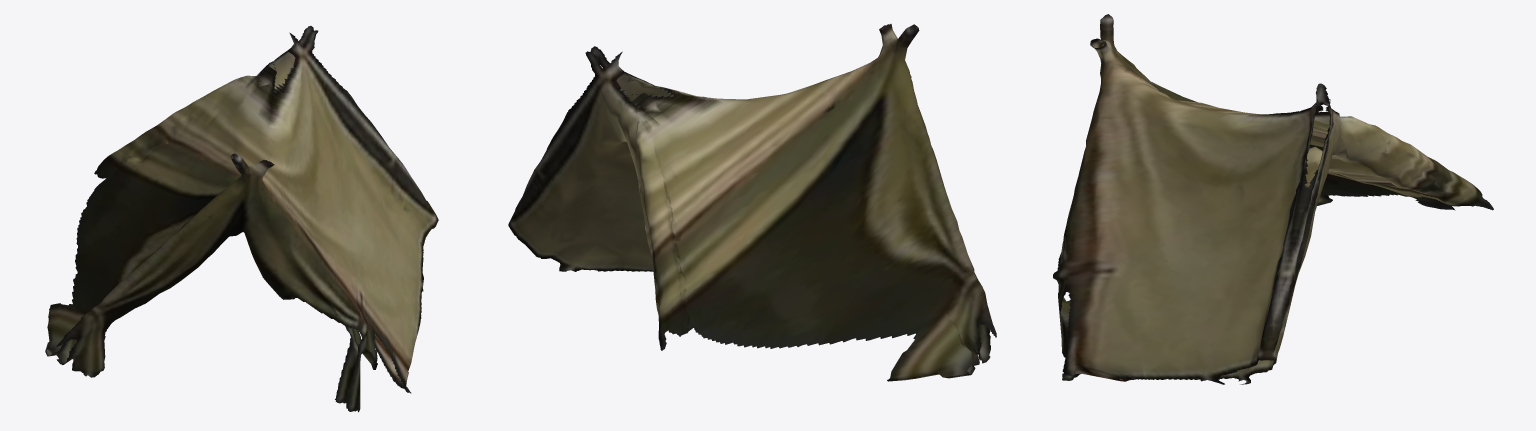
Rendered from fantasytent.glb.
3 views of the same model, side by side, from view 1: azimuth 30°, elevation 25°; view 2: azimuth 150°, elevation 25°; view 3: azimuth 270°, elevation 25° (orthographic). The views are drawn at different scales.
Parts seen in each view (by area): view 1: geometry_0; view 2: geometry_0; view 3: geometry_0.
Boxes of the visible parts, bbox=[...] form: geometry_0: bbox=[45, 26, 438, 412]; geometry_0: bbox=[508, 24, 996, 381]; geometry_0: bbox=[1053, 14, 1493, 384].
Size of the model in its own units: 1.29 by 0.8369 by 1.07.
1 material, 1 textured.
